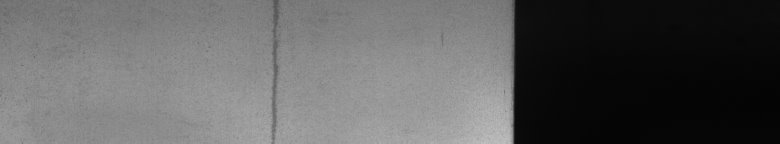hd: (267, 4, 283, 136)
